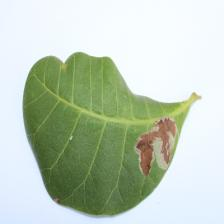leaf miner: (133, 115, 181, 176)
